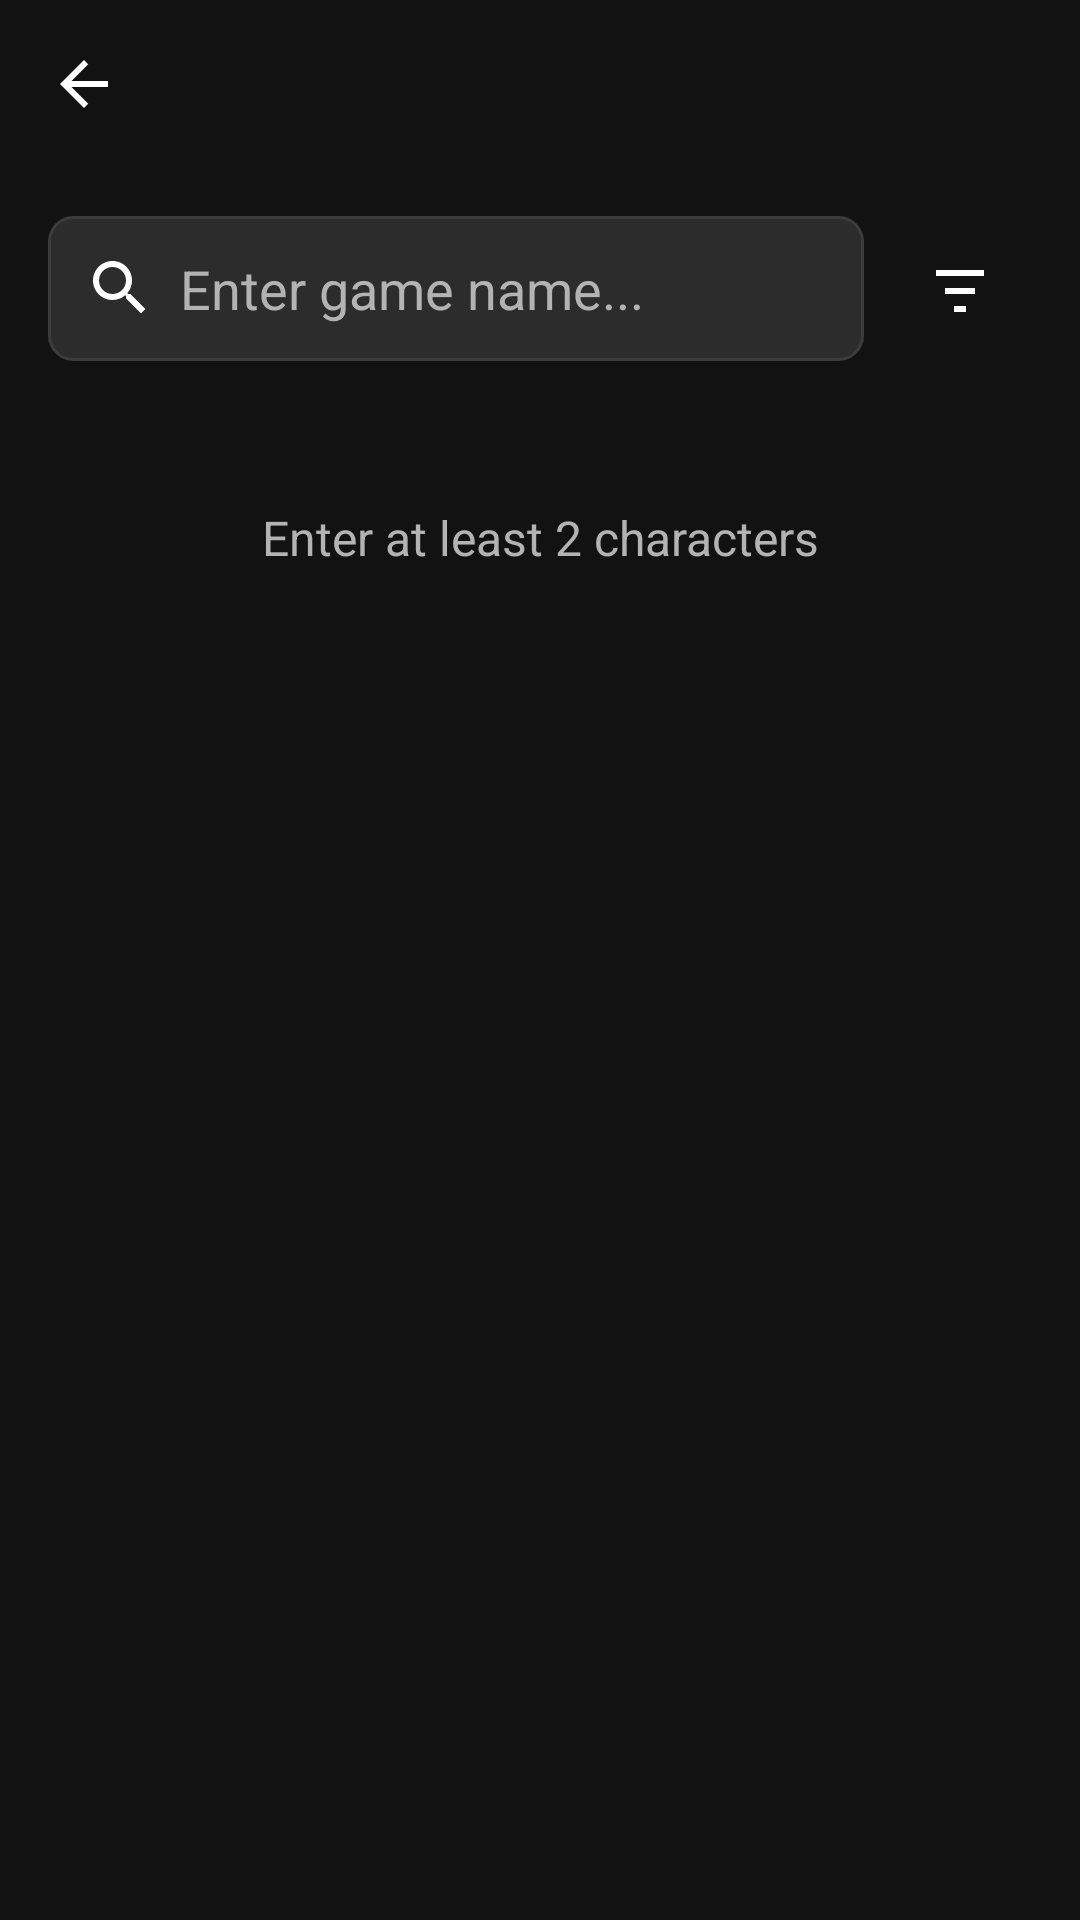

Icon click points for this 1080×1920 phone screenshot, format (x,y):
Filters: (960,291)
